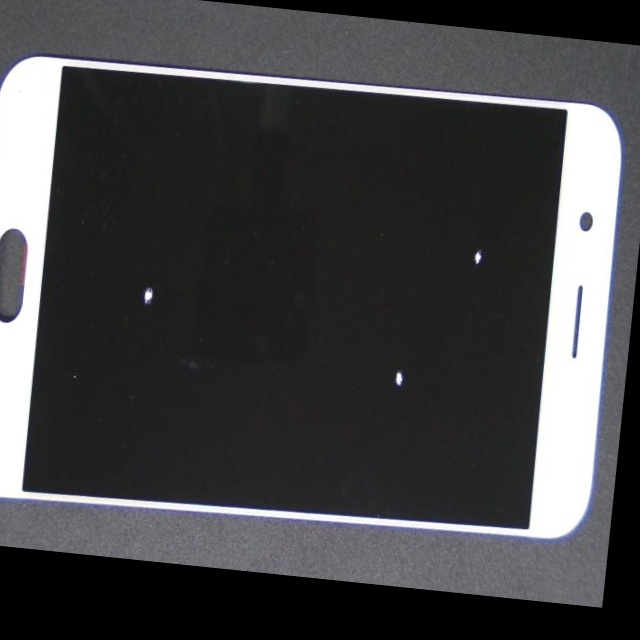stain: (157, 135, 623, 561), (225, 84, 640, 371), (66, 115, 273, 414)
